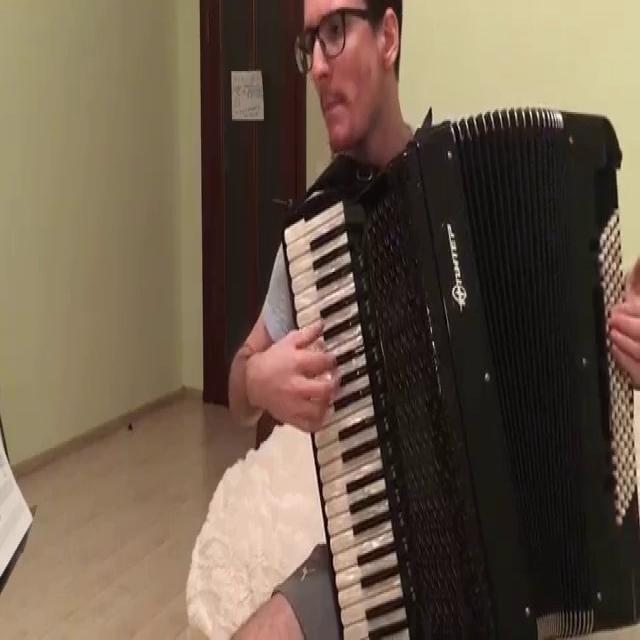Accordion: (278, 109, 640, 640)
